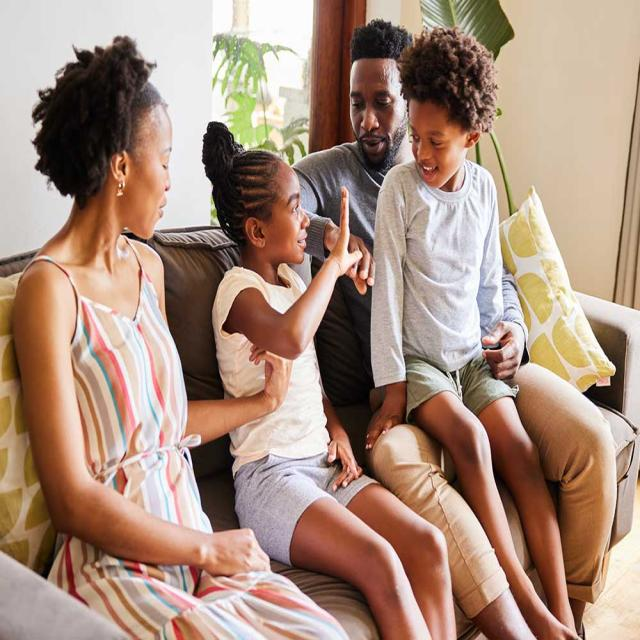adult: (286, 19, 616, 640), (15, 36, 347, 640)
child: (202, 122, 462, 640), (371, 30, 588, 640)
